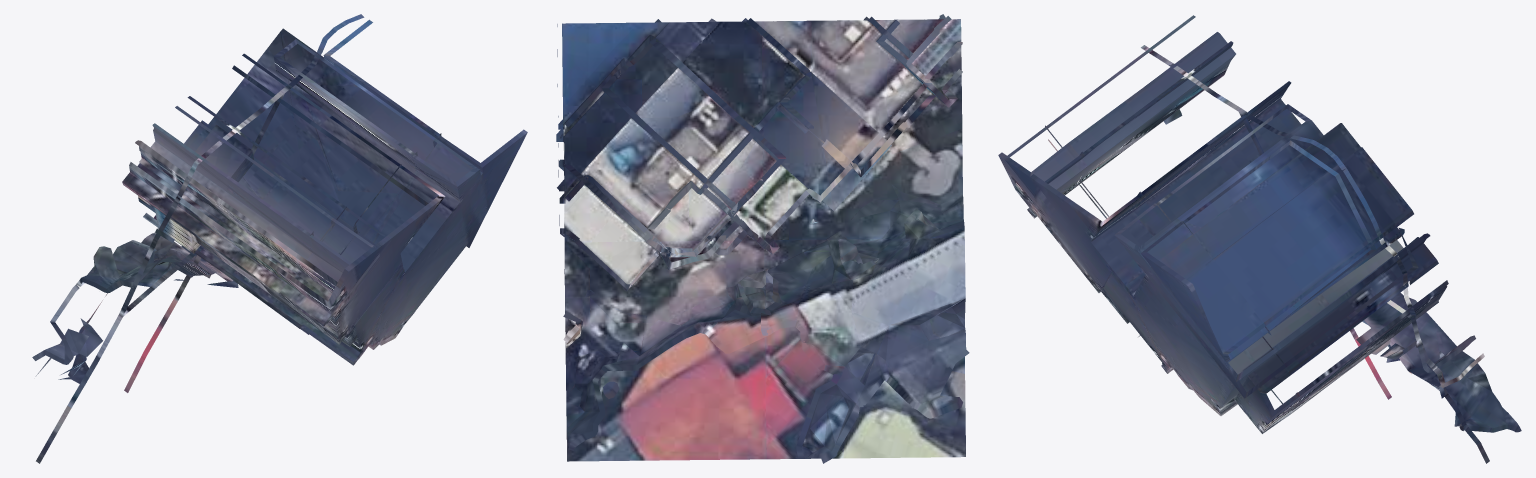
3 renders of one model, left to right at view 1: azimuth 30°, elevation 25°; view 2: azimuth 150°, elevation 25°; view 3: azimuth 270°, elevation 25°, orthographic. The views are drawn at different scales.
Size of the model in its own units: 47.71 by 36.97 by 49.64.
2 materials, 2 textured.
